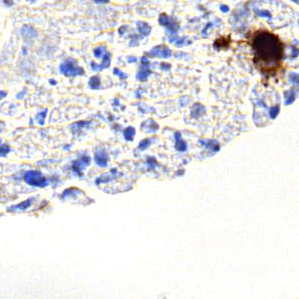Lymphocyte: (248, 30, 286, 65)
